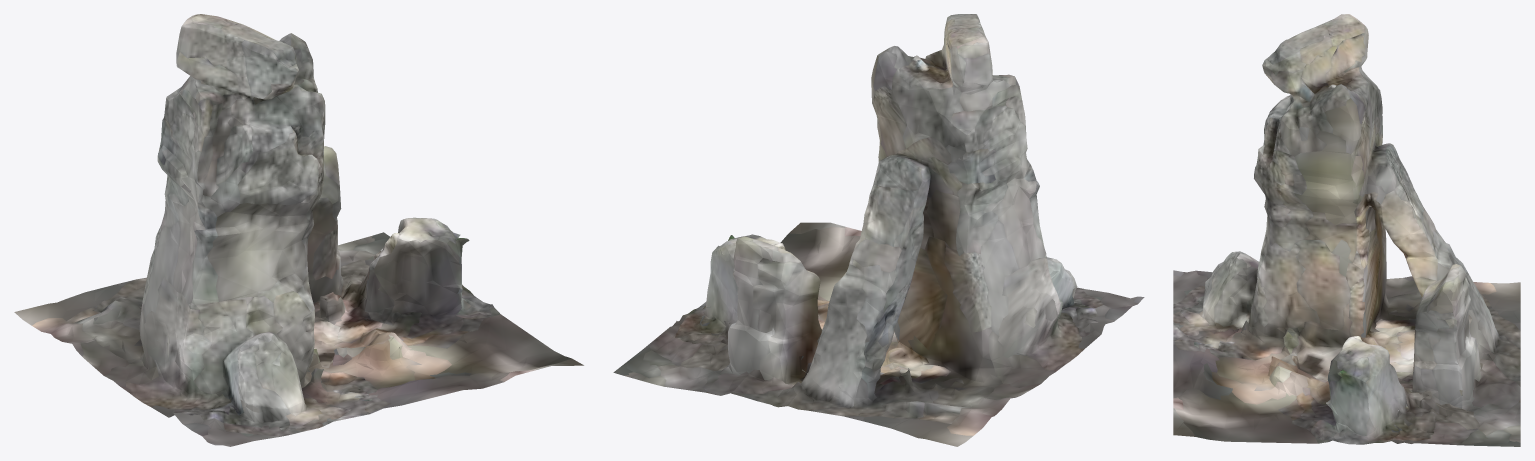
Rendered from punic-stela.glb.
3 renders of one model, left to right at view 1: azimuth 30°, elevation 25°; view 2: azimuth 150°, elevation 25°; view 3: azimuth 270°, elevation 25°, orthographic. The views are drawn at different scales.
Parts seen in each view (by area): view 1: Object_2; view 2: Object_2; view 3: Object_2.
Boxes of the visible parts, bbox=[...] form: Object_2: bbox=[14, 14, 583, 446]; Object_2: bbox=[613, 14, 1144, 446]; Object_2: bbox=[1173, 14, 1520, 446].
Bounding box in the file's own units: 1.54 × 1.43 × 1.45.
Materials: 1 (1 with a texture image).
